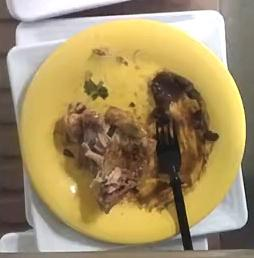black_beans: (150, 72, 219, 144)
chicken: (55, 102, 153, 197)
